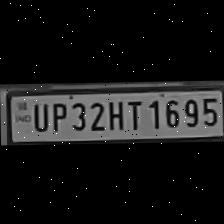1: (144, 96, 160, 130)
2: (85, 98, 105, 131)
3: (67, 96, 87, 130)
5: (198, 92, 218, 126)
6: (158, 94, 180, 128)
9: (180, 94, 200, 125)
H: (104, 96, 125, 130)
P: (46, 98, 68, 132)
T: (124, 96, 144, 130)
U: (28, 100, 48, 131)
